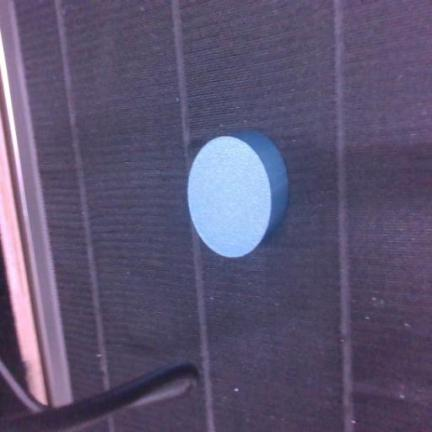cylinder: (187, 131, 288, 257)
